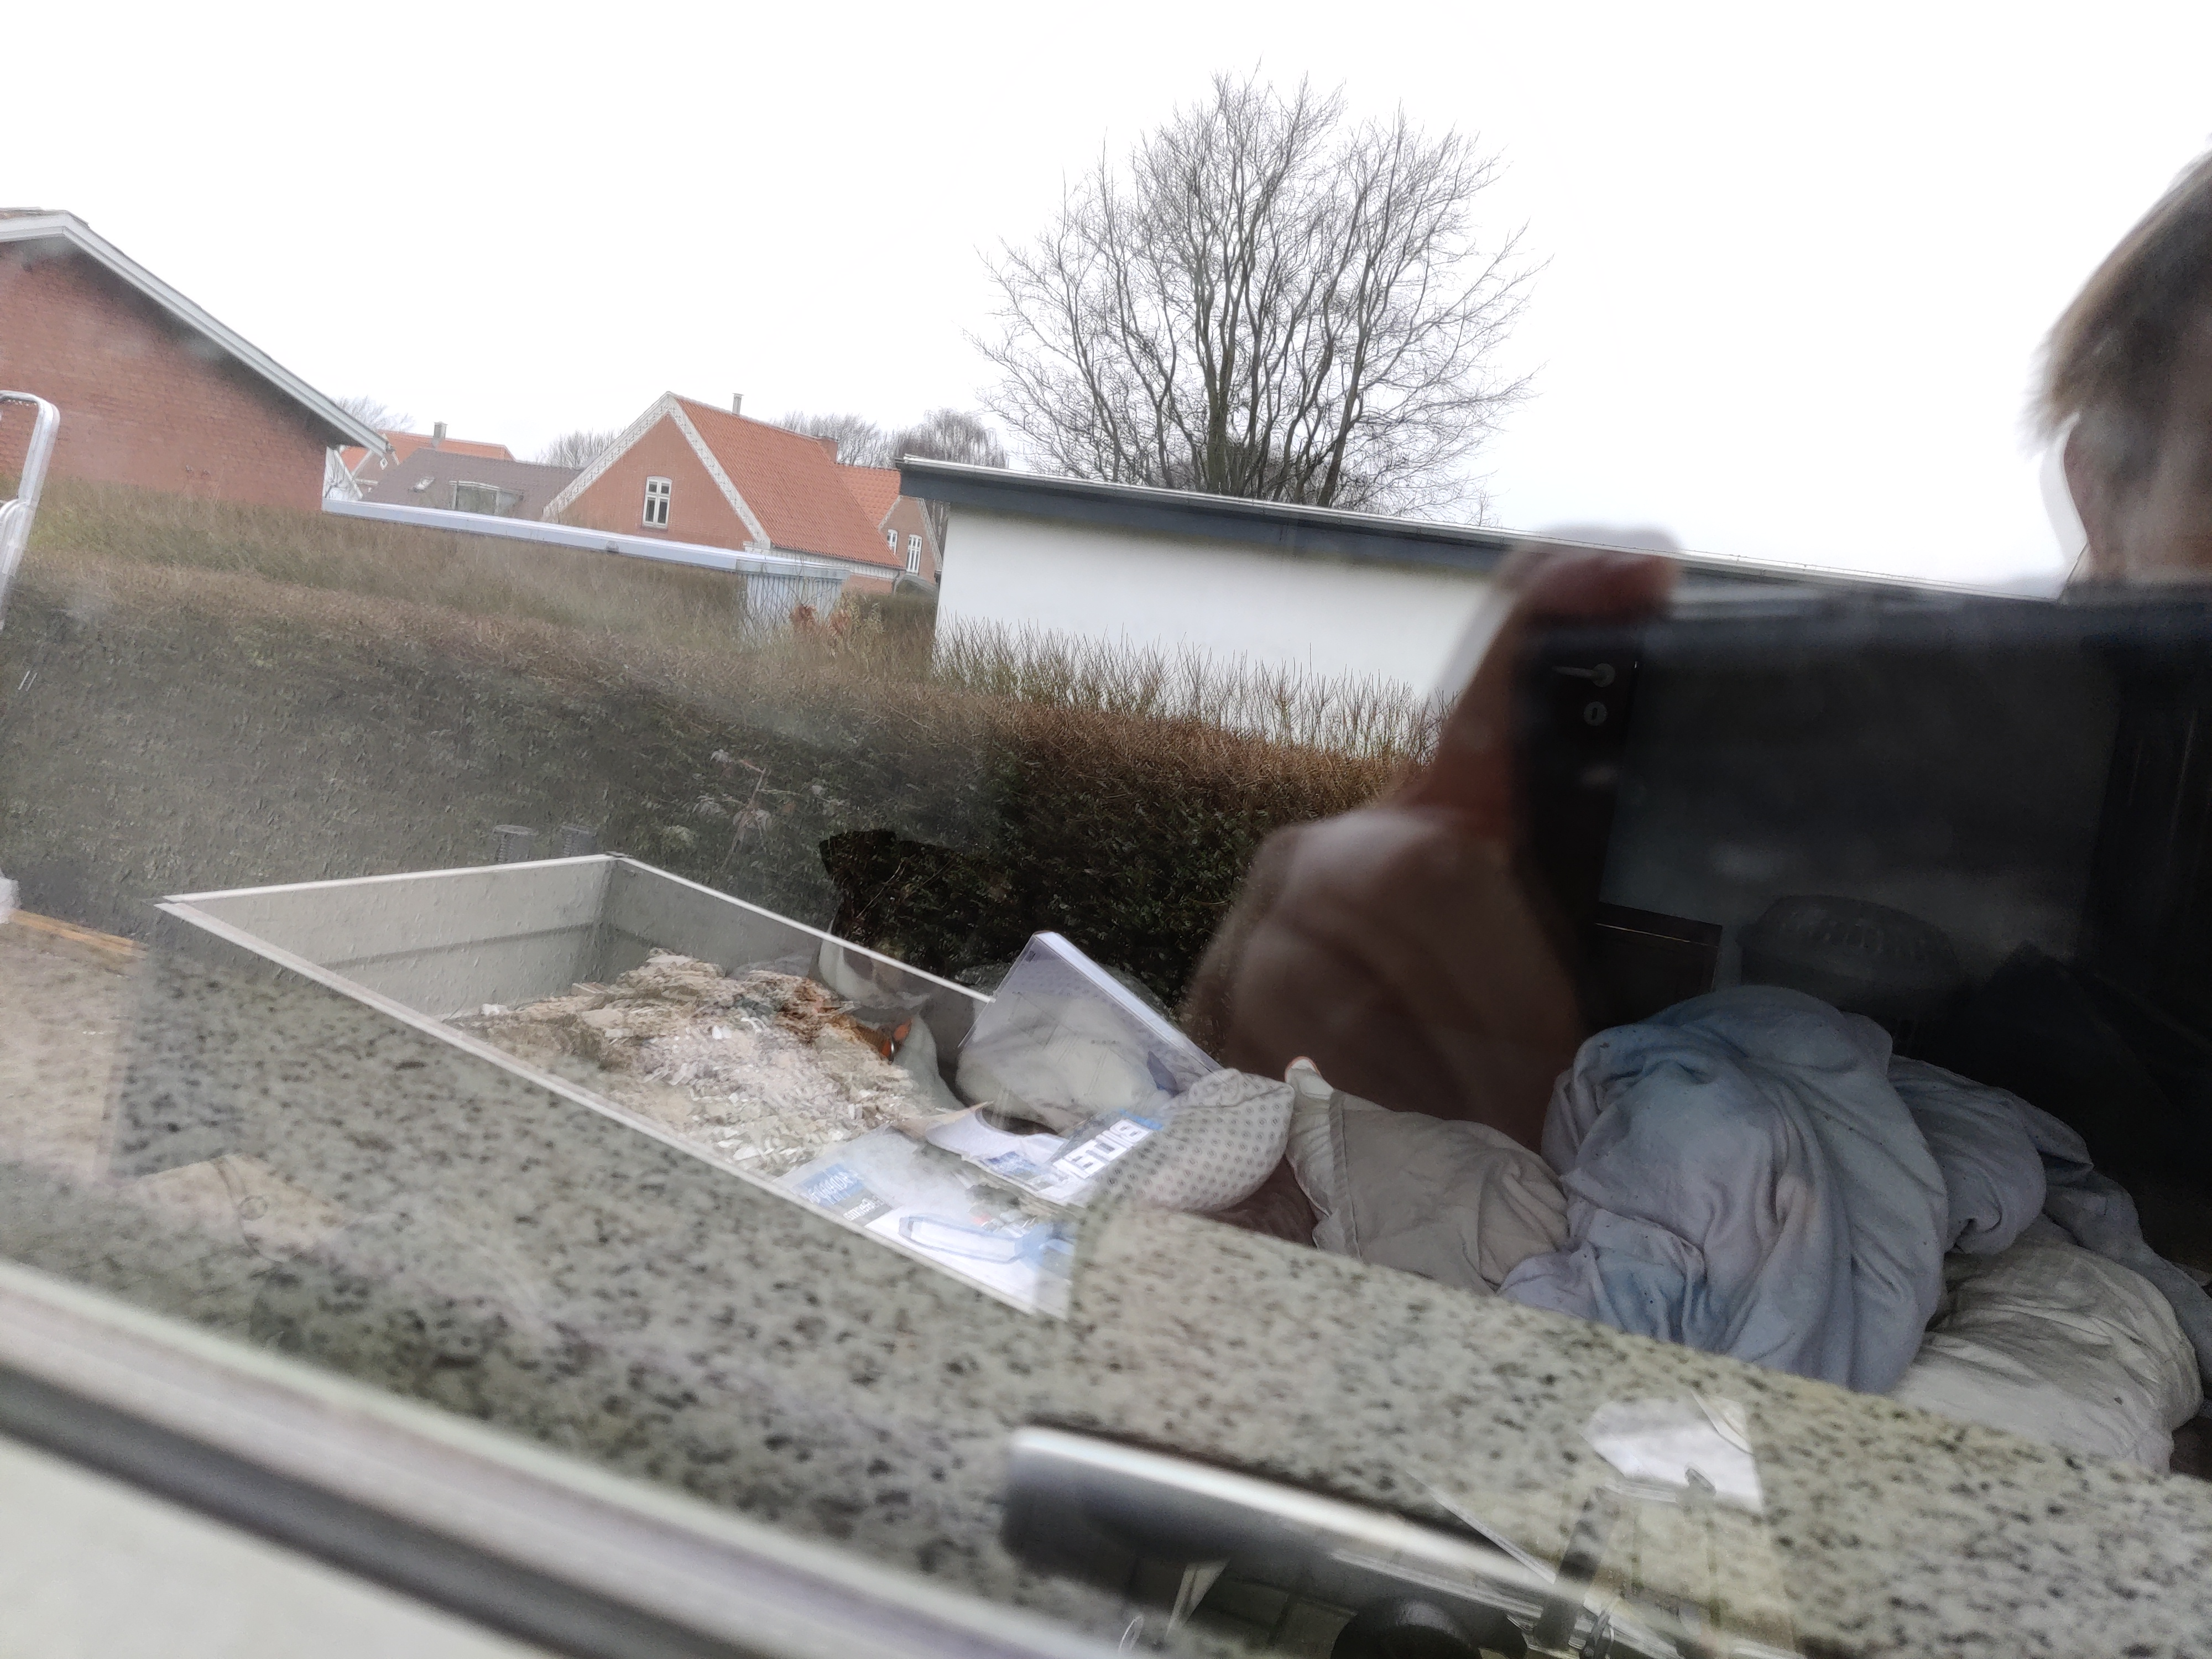Dog: (763, 823, 1183, 1148)
